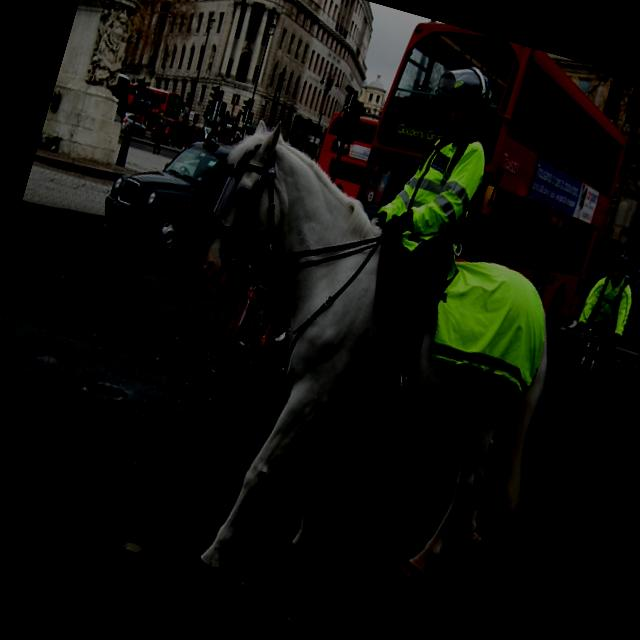Vehicle: (335, 12, 640, 334), (97, 112, 237, 256), (312, 102, 378, 200), (122, 80, 176, 120), (148, 113, 182, 149), (118, 110, 150, 140), (110, 73, 130, 100)
